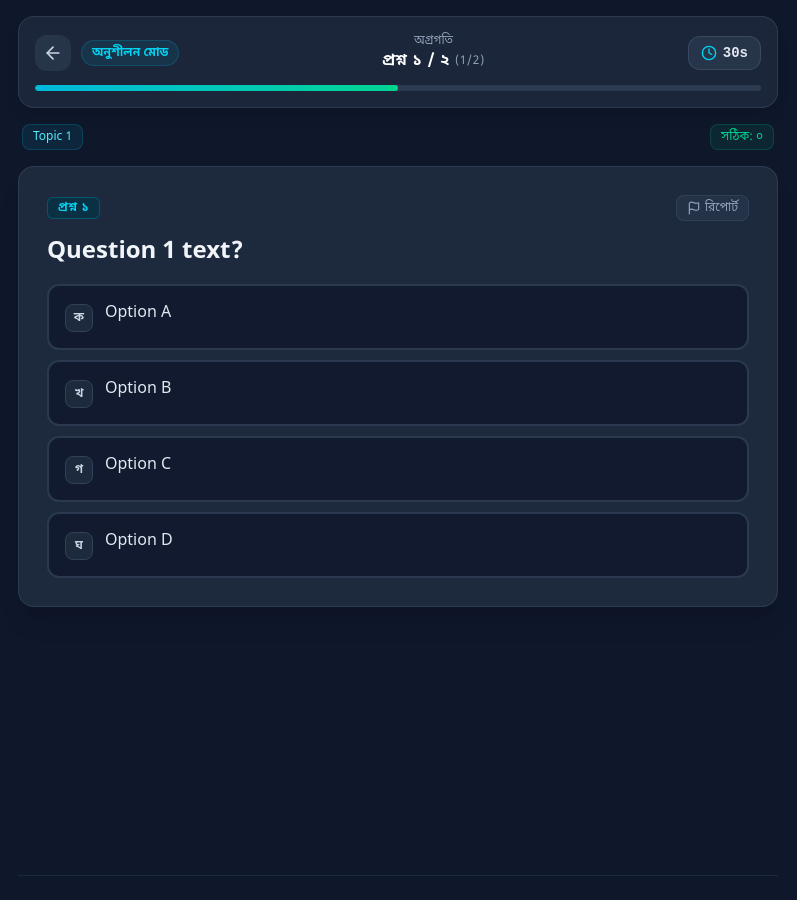
Quiz Component › handles option selection correctly in incorrect answer
Click the text "Option B": (138, 389) x1=105 y1=378 x2=171 y2=400
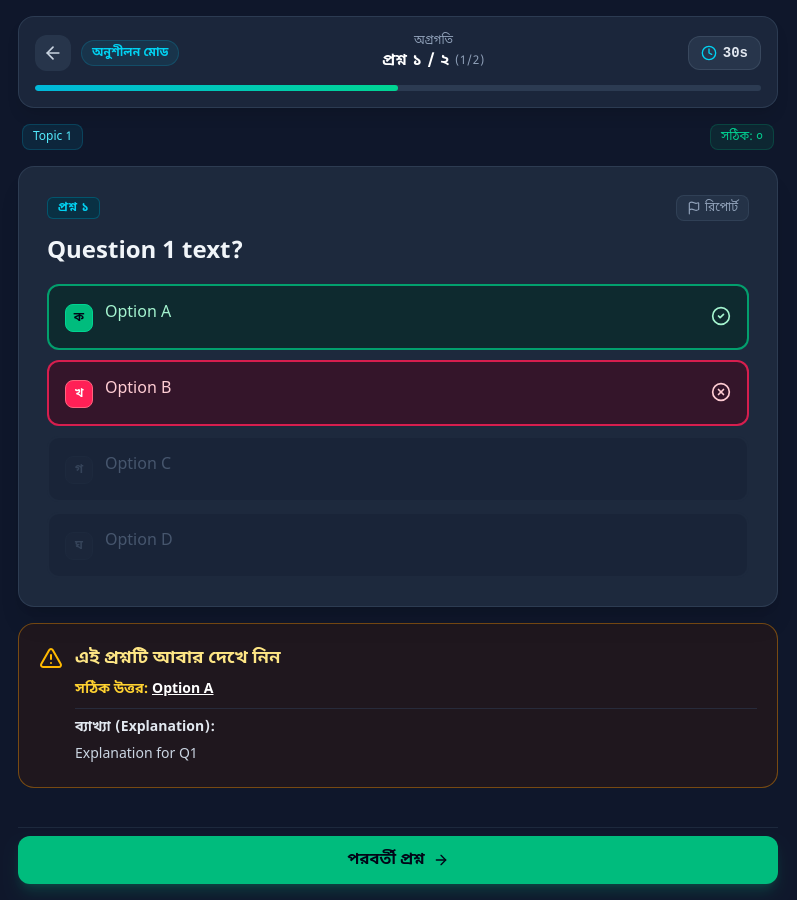
expect the text "ব্যাখ্যা (Explanation):" is shown: met, box x1=75 y1=718 x2=215 y2=737
expect the text "Explanation for Q1" is shown: met, box x1=75 y1=745 x2=198 y2=764
expect the text "পরবর্তী প্রশ্ন" is shown: met, box x1=347 y1=848 x2=425 y2=872
